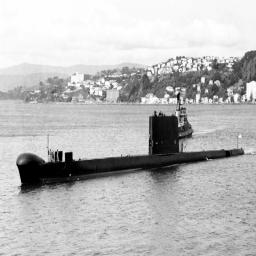submarine: (15, 115, 247, 194)
